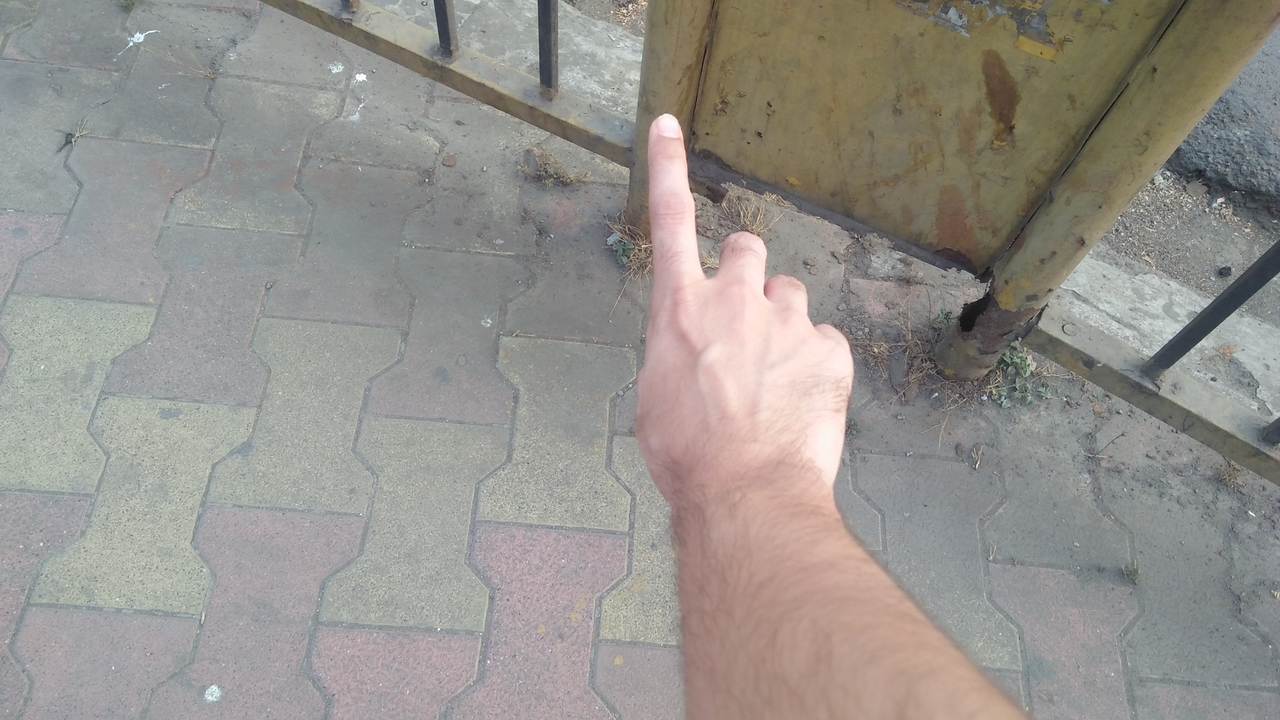fingertip: (642, 102, 690, 152)
